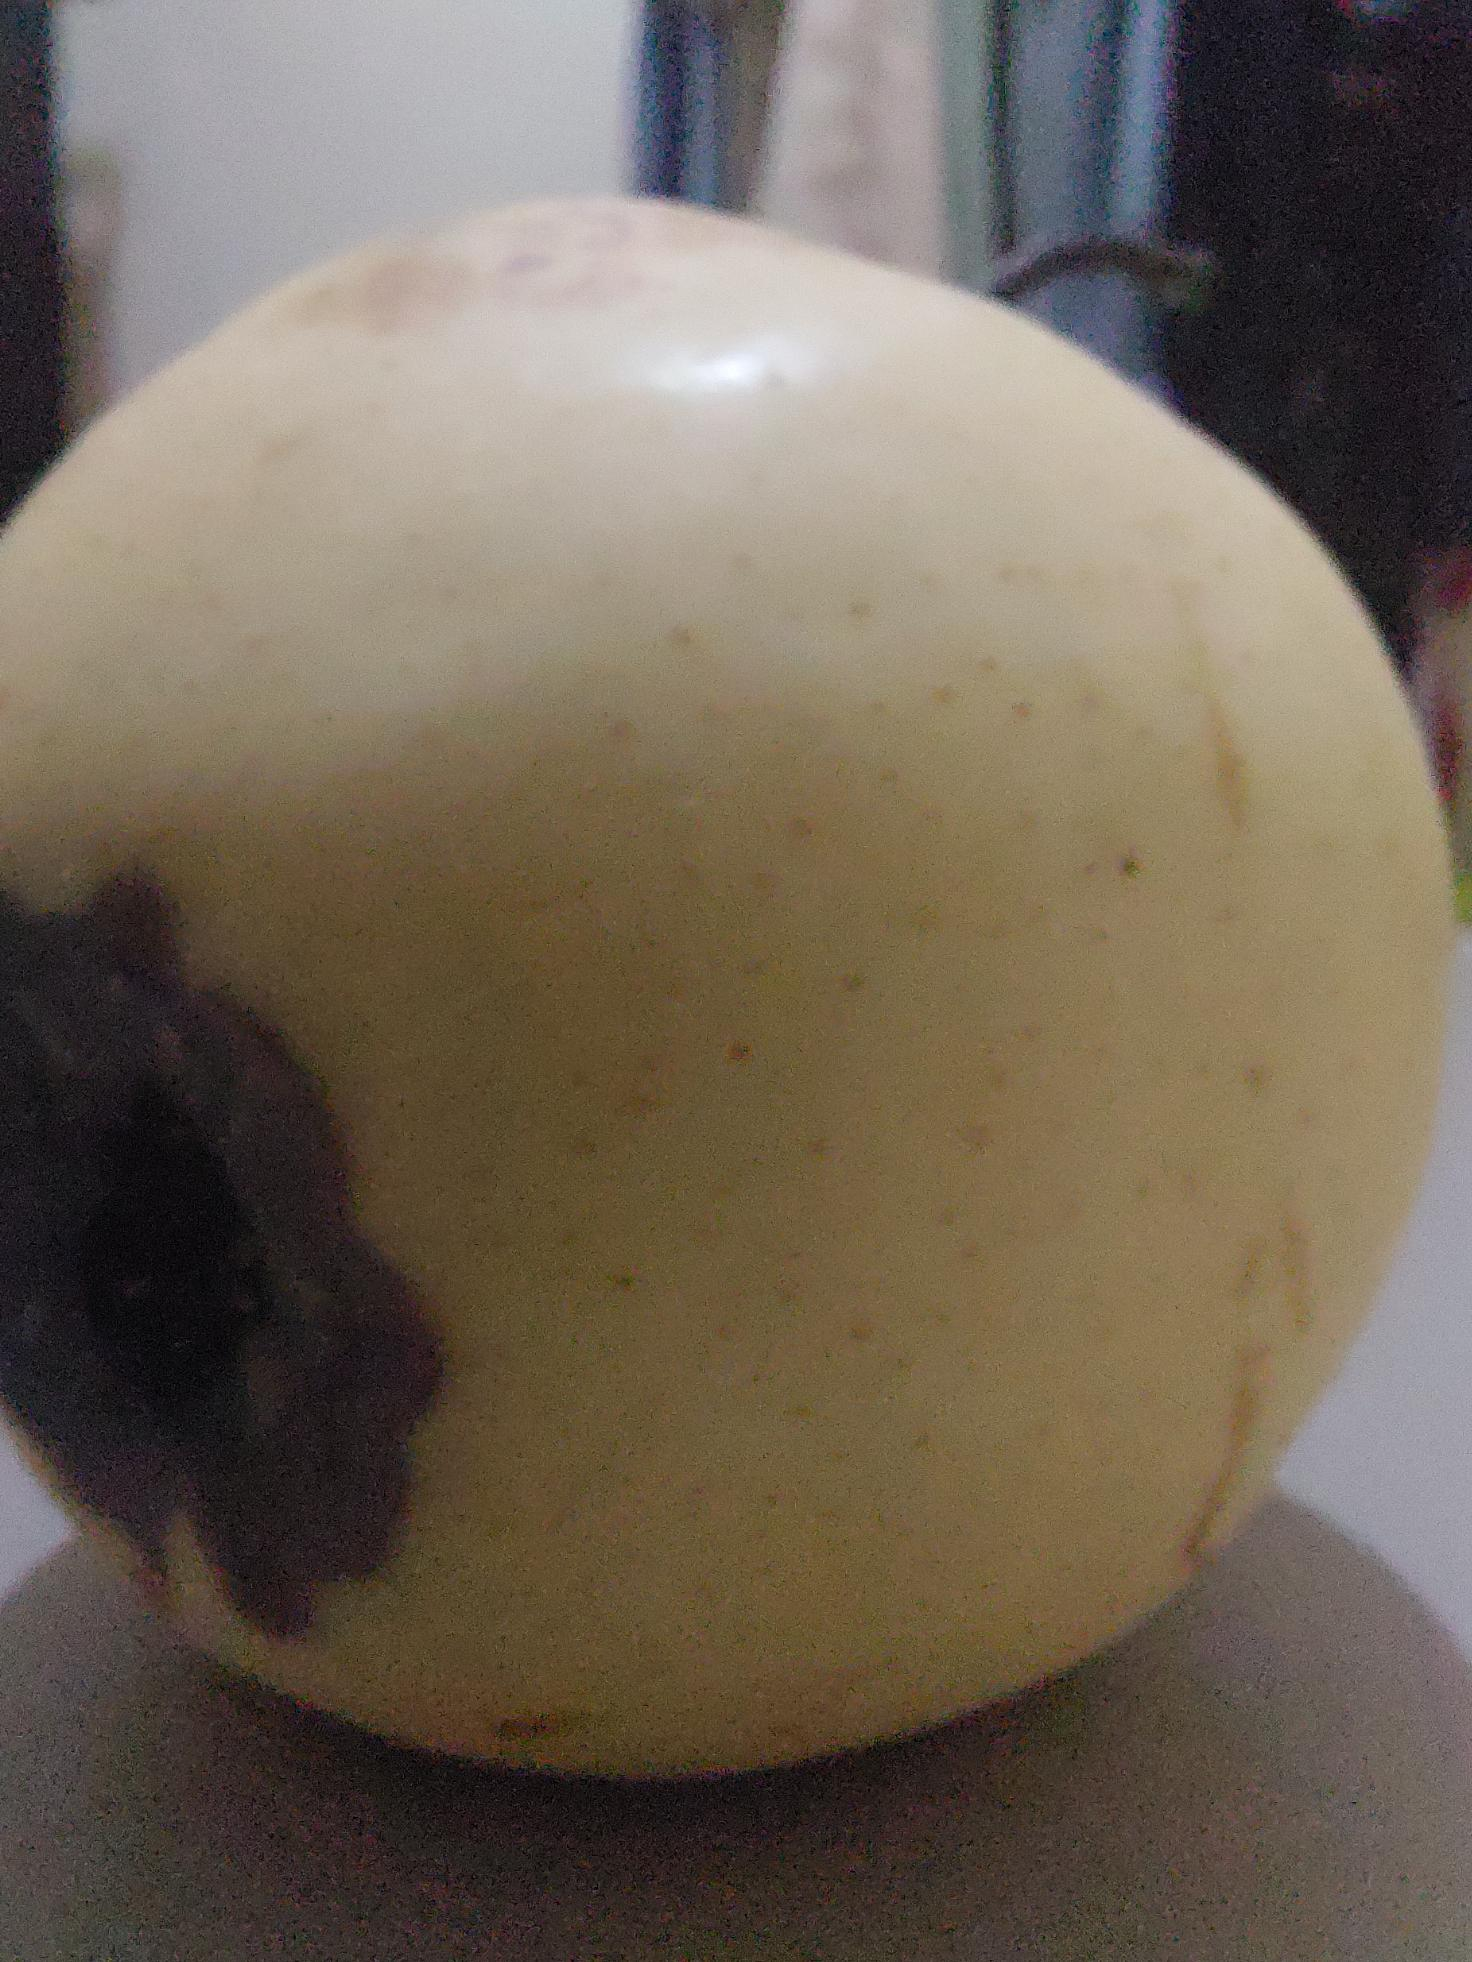Bad Pear: (0, 192, 1461, 1824)
